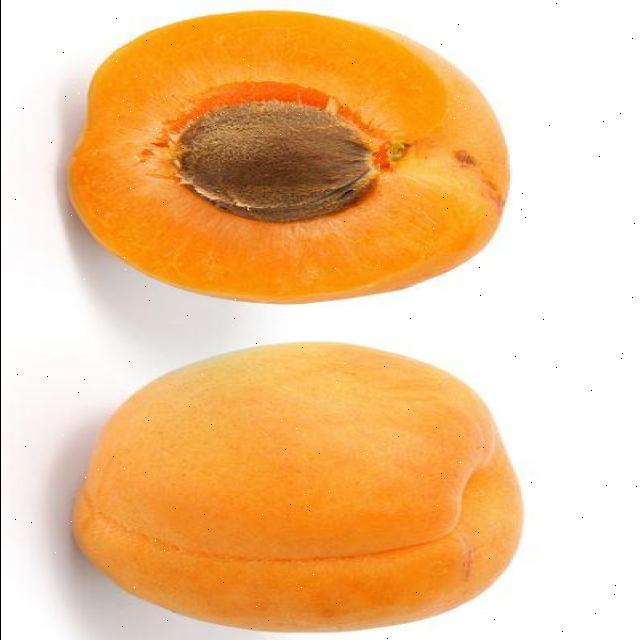Cekirdek: (181, 101, 376, 221)
Kayisi: (75, 342, 522, 631), (70, 11, 507, 302)
